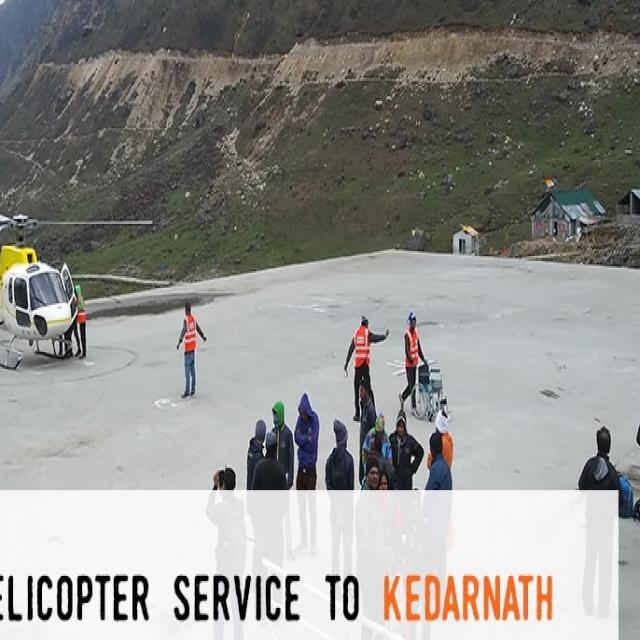helicopter: (1, 162, 175, 378)
